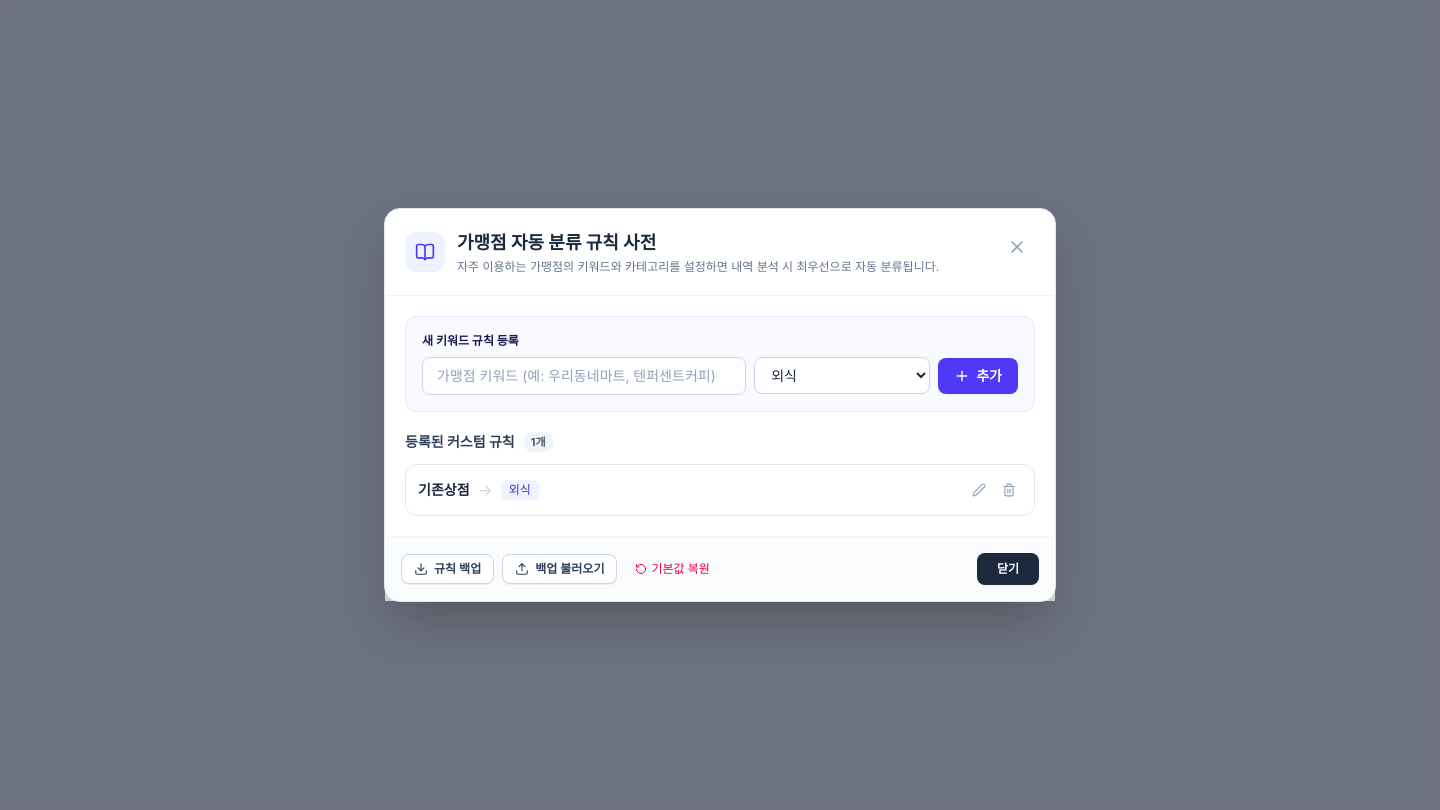
Test: MerchantRulesModal 컴포넌트 단위 및 인터랙션 테스트 › 이미 등록된 키워드를 다시 추가하려 하면 중복 에러가 표시되어야 한다
Type "기존상점" into the field with placeholder "가맹점 키워드 (예: 우리동네마트, 텐퍼센트커피)" at (584, 376), box [422,357,746,395]
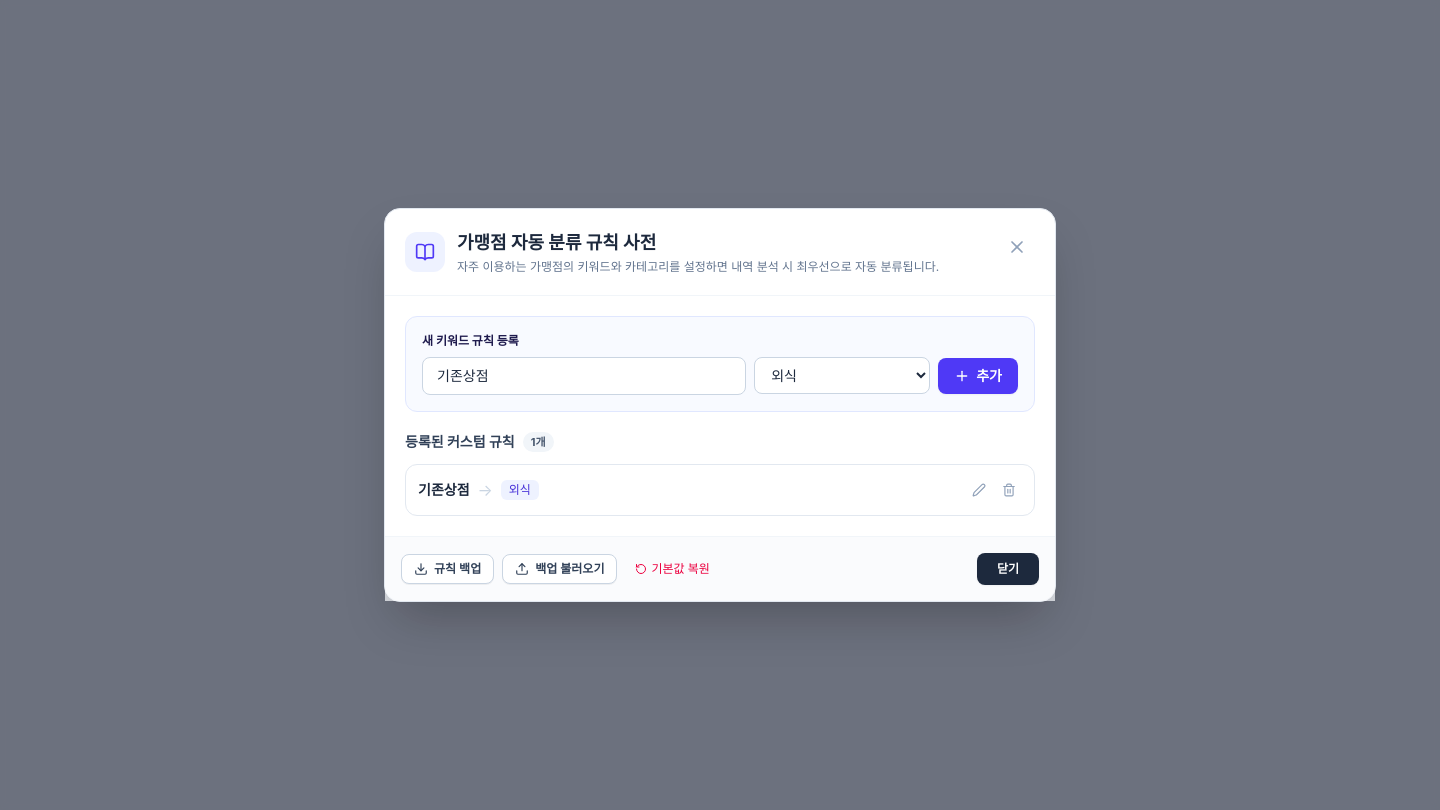
Click the button "추가" at (978, 376), box [938,358,1018,394]
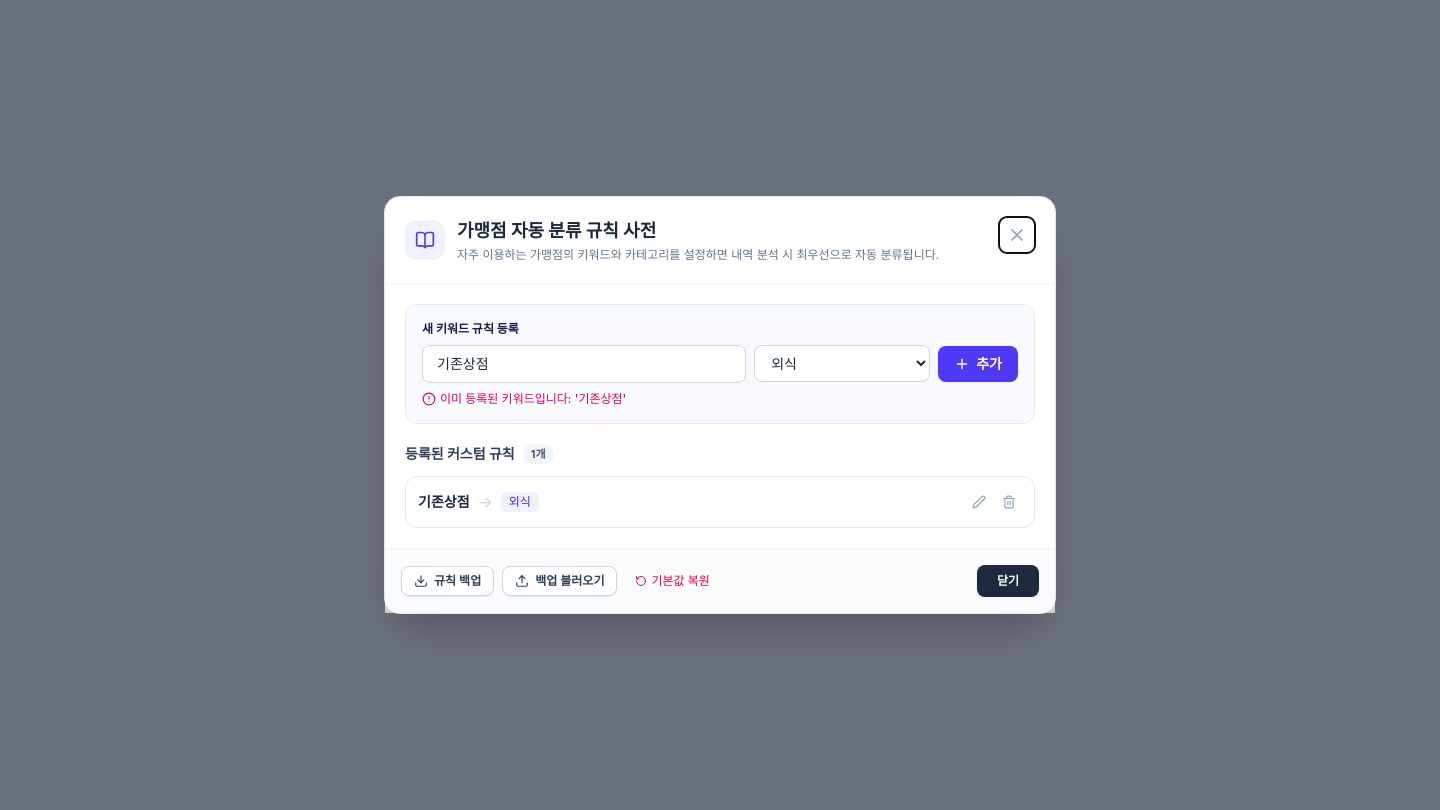
Check: the text "이미 등록된 키워드입니다: '기존상점'" is shown, box [422,391,626,406]
